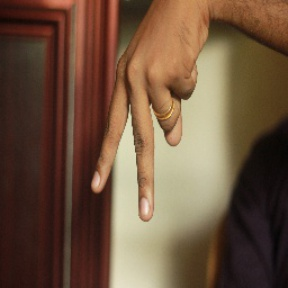Y: (82, 42, 202, 225)
